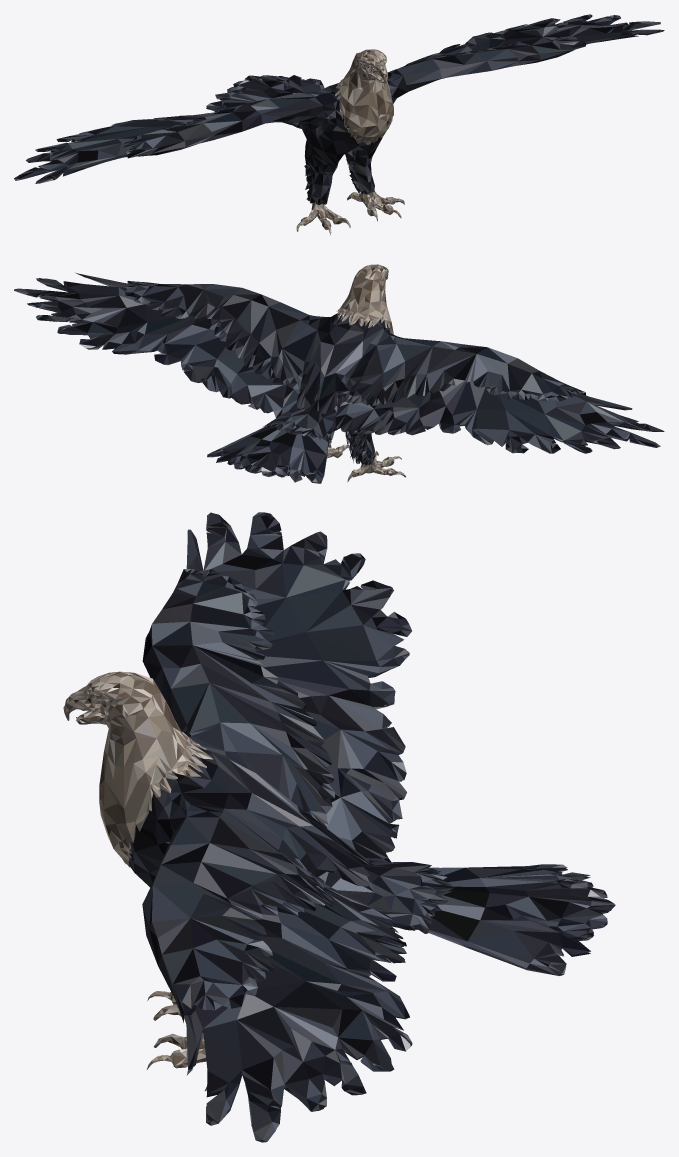
File: ave.obj
The picture shows the model from 3 angles, top to bottom: view 1: azimuth 30°, elevation 25°; view 2: azimuth 150°, elevation 25°; view 3: azimuth 270°, elevation 25°; orthographic projection. The views are drawn at different scales.
Parts seen in each view (by area): view 1: Eagle, Object001; view 2: Eagle, Object001; view 3: Eagle, Object001.
Boxes of the visible parts, <box> form: Eagle: <box>14,14,664,204</box>; Object001: <box>296,49,404,235</box>; Eagle: <box>14,272,664,483</box>; Object001: <box>327,264,406,482</box>; Eagle: <box>128,512,615,1142</box>; Object001: <box>63,671,213,1091</box>.
Bounding box in the file's own units: 52.69 × 14.25 × 19.5.
2 materials, 2 textured.
